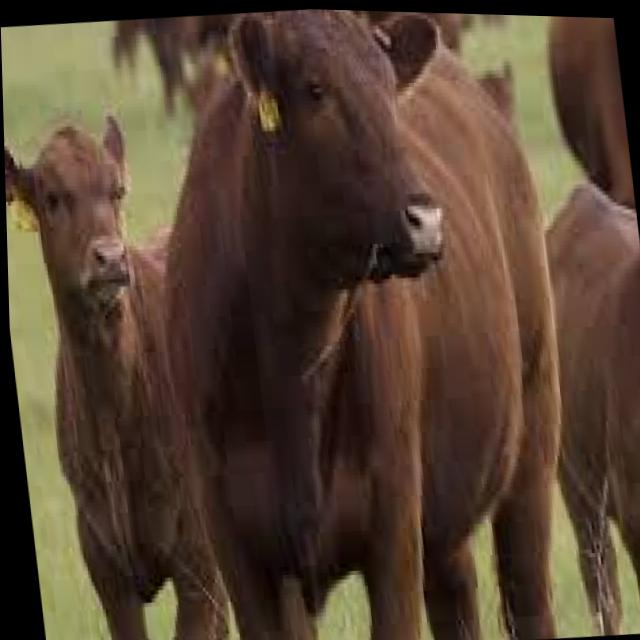cowFace: (175, 4, 498, 325), (2, 93, 174, 371)
